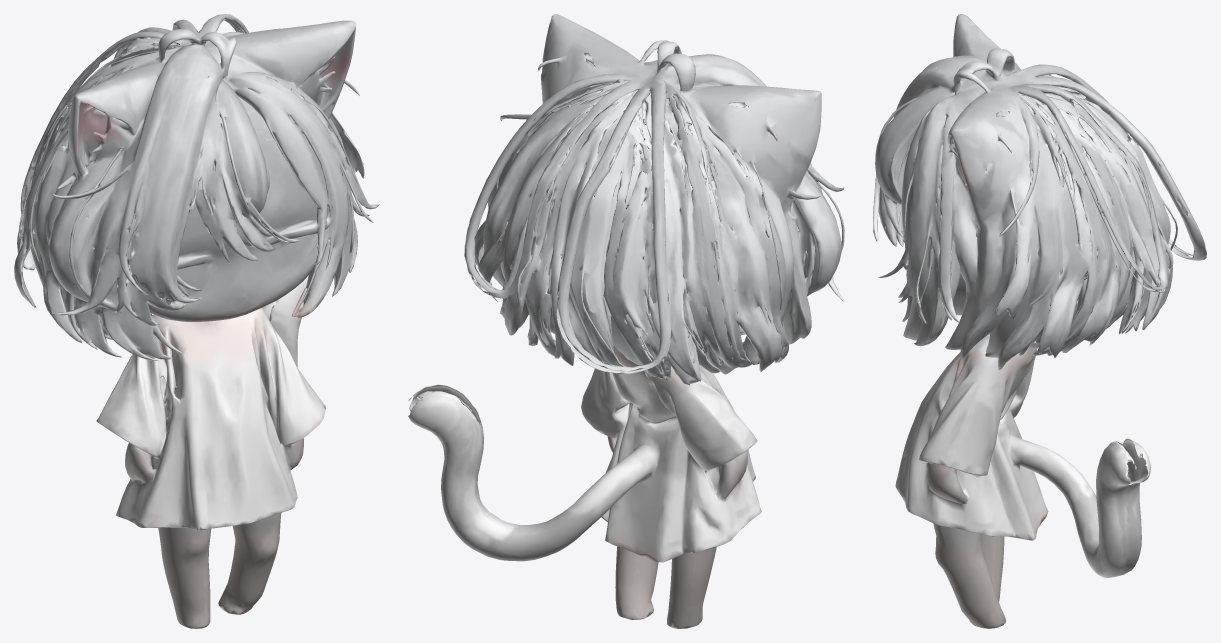
The model's file is trendwear-catgirl-v2.glb.
3 views of the same model, side by side, from view 1: azimuth 30°, elevation 25°; view 2: azimuth 150°, elevation 25°; view 3: azimuth 270°, elevation 25° (orthographic). The views are drawn at different scales.
Visible parts, largest first — view 1: trendwear_catgirl; view 2: trendwear_catgirl; view 3: trendwear_catgirl.
Part boxes in pixels (x1,y1,x2,y2): trendwear_catgirl: (14,14,379,628); trendwear_catgirl: (408,14,844,628); trendwear_catgirl: (873,14,1206,628).
Bounding box in the file's own units: 0.634 × 1 × 0.5516.
Materials: 1 (1 with a texture image).
